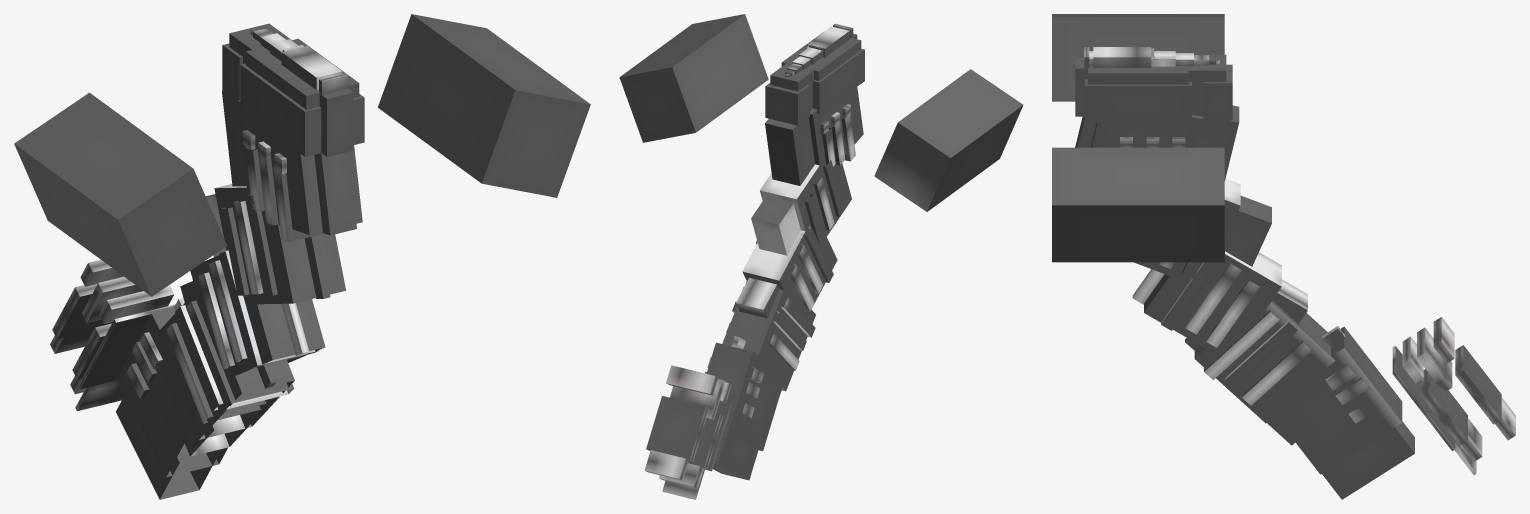
File: ak47_mag_v9.glb
3 renders of one model, left to right at view 1: azimuth 30°, elevation 25°; view 2: azimuth 150°, elevation 25°; view 3: azimuth 270°, elevation 25°, orthographic. The views are drawn at different scales.
Visible parts, largest first — view 1: mag; view 2: mag; view 3: mag.
Part boxes in pixels (x1,y1,x2,y2): mag: [14, 14, 590, 499]; mag: [619, 14, 1023, 499]; mag: [1052, 14, 1515, 499].
Bounding box in the file's own units: 0.2074 × 0.2225 × 0.2125.
Materials: 1 (1 with a texture image).
